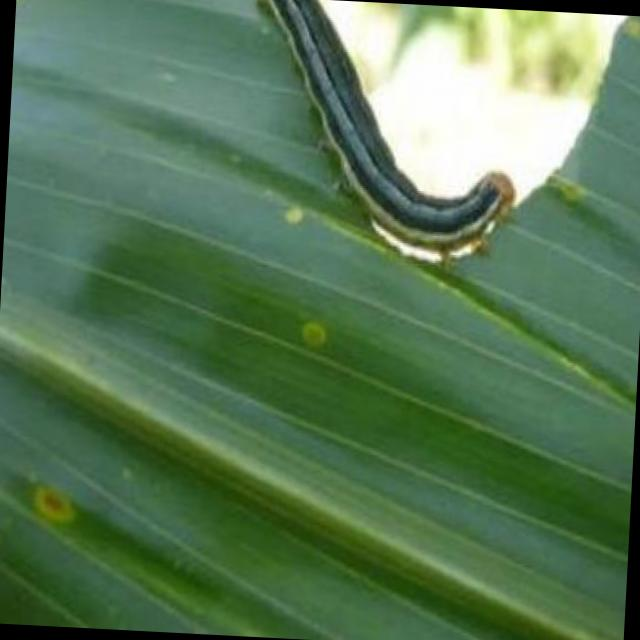armyworm: (243, 1, 537, 285)
